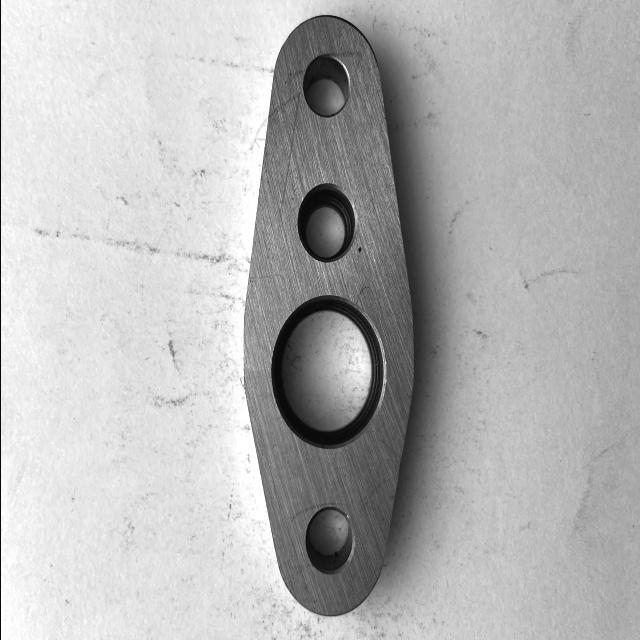chap: (272, 400, 278, 411), (356, 246, 362, 256)
lines: (276, 90, 300, 213), (268, 91, 300, 120), (354, 283, 372, 303), (331, 48, 366, 58)
